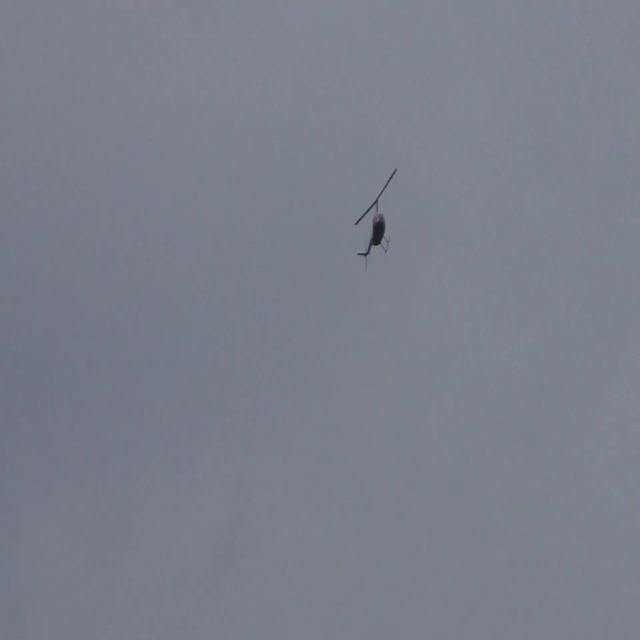CIV_HELO: (358, 199, 390, 258)
